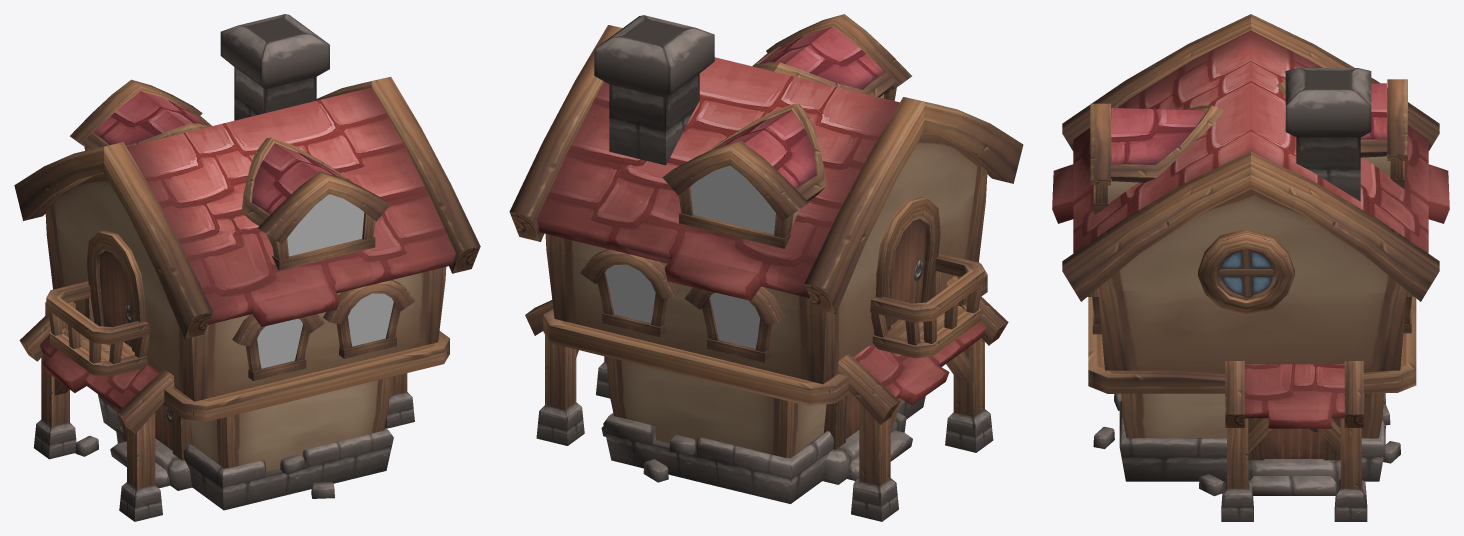
Rendered from building-2.FBX.
3 views of the same model, side by side, from view 1: azimuth 30°, elevation 25°; view 2: azimuth 150°, elevation 25°; view 3: azimuth 270°, elevation 25° (orthographic). The views are drawn at different scales.
Parts seen in each view (by area): view 1: building-2, building-2 - lights on; view 2: building-2, building-2 - lights on; view 3: building-2.
Part boxes in pixels (<box>): building-2: <box>14,14,480,521</box>; building-2 - lights on: <box>257,194,393,368</box>; building-2: <box>509,14,1023,521</box>; building-2 - lights on: <box>605,165,775,348</box>; building-2: <box>1052,14,1449,521</box>.
Bounding box in the file's own units: 1287 × 1350 × 1227.
